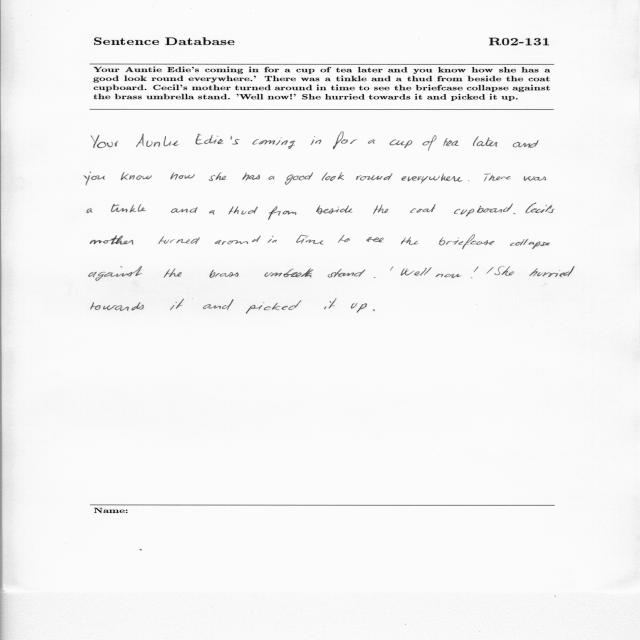word: (89, 266, 142, 281), (439, 235, 495, 249), (246, 300, 302, 314), (454, 204, 513, 217), (402, 174, 463, 184), (136, 134, 179, 147), (252, 137, 296, 149), (529, 266, 575, 277), (91, 302, 144, 311), (265, 268, 314, 277), (90, 235, 133, 245), (333, 132, 358, 149), (215, 236, 261, 245), (510, 239, 550, 249), (268, 206, 296, 220), (285, 172, 313, 185), (92, 135, 119, 148), (203, 299, 233, 310), (159, 236, 200, 244), (316, 206, 352, 215), (196, 134, 224, 145), (328, 269, 365, 277), (526, 203, 555, 213), (400, 267, 432, 276), (111, 204, 146, 212), (296, 235, 324, 245), (84, 172, 105, 185), (473, 136, 497, 147), (356, 174, 393, 181), (121, 172, 152, 180), (228, 207, 258, 215), (209, 270, 239, 278), (410, 204, 436, 213), (423, 135, 437, 151), (513, 140, 539, 148), (170, 172, 195, 180), (494, 266, 514, 276), (390, 139, 412, 148), (322, 172, 344, 181), (484, 175, 511, 182), (164, 268, 182, 278), (209, 172, 227, 181), (171, 207, 198, 213), (351, 303, 367, 313), (170, 299, 184, 310), (242, 173, 260, 181), (373, 205, 389, 214), (401, 237, 419, 245), (324, 299, 336, 310), (443, 138, 459, 146), (524, 176, 546, 181), (436, 274, 462, 278), (311, 136, 322, 145), (338, 235, 350, 243), (471, 267, 479, 279), (366, 237, 384, 242), (230, 136, 240, 144), (267, 236, 277, 243), (486, 267, 494, 274), (87, 209, 93, 214), (209, 210, 215, 215), (368, 140, 375, 144), (269, 176, 275, 180), (390, 266, 394, 271), (484, 174, 491, 175), (373, 309, 375, 311), (513, 213, 516, 214), (374, 277, 376, 278), (468, 181, 469, 182)
